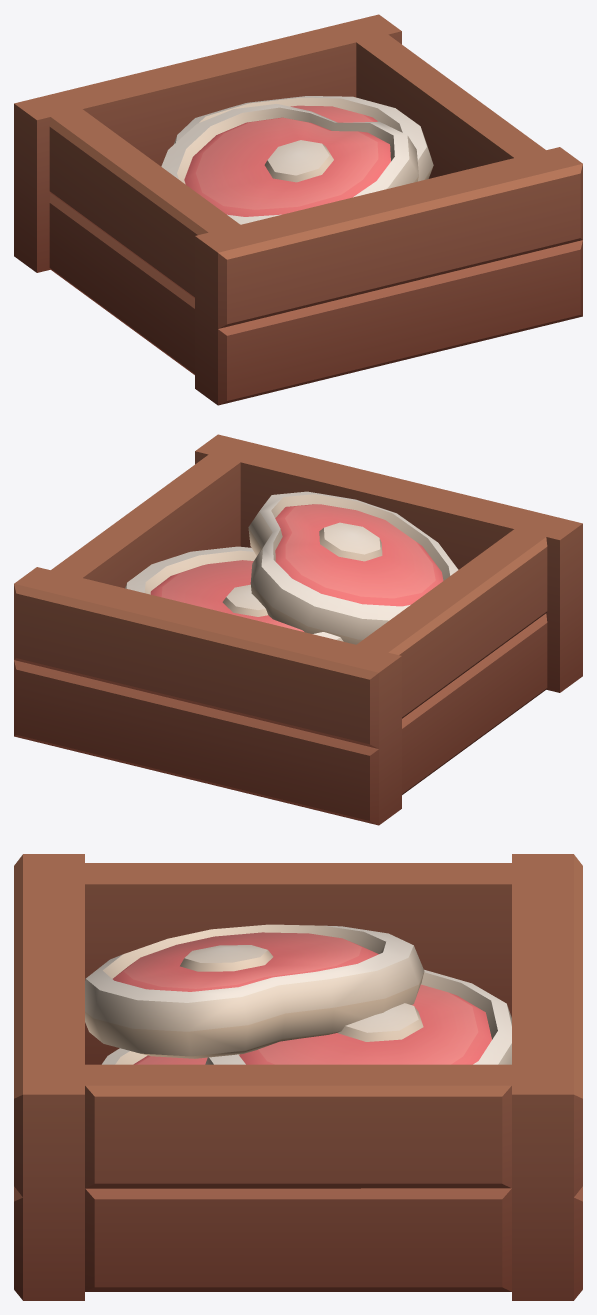
File: Crate of steaks.glb
The picture shows the model from 3 angles, top to bottom: view 1: azimuth 30°, elevation 25°; view 2: azimuth 150°, elevation 25°; view 3: azimuth 270°, elevation 25°; orthographic projection. The views are drawn at different scales.
Parts seen in each view (by area): view 1: crate_steak; view 2: crate_steak; view 3: crate_steak.
Part boxes in pixels (x1,y1,x2,y2): crate_steak: (14,14,582,405); crate_steak: (14,434,582,825); crate_steak: (14,854,582,1300).
Bounding box in the file's own units: 2 × 0.8769 × 2.
1 material, 1 textured.
